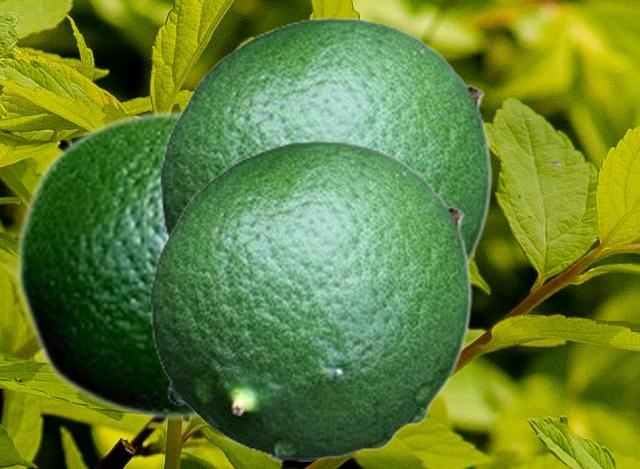calamansi: (149, 139, 471, 460), (159, 16, 491, 268), (14, 109, 199, 421)
